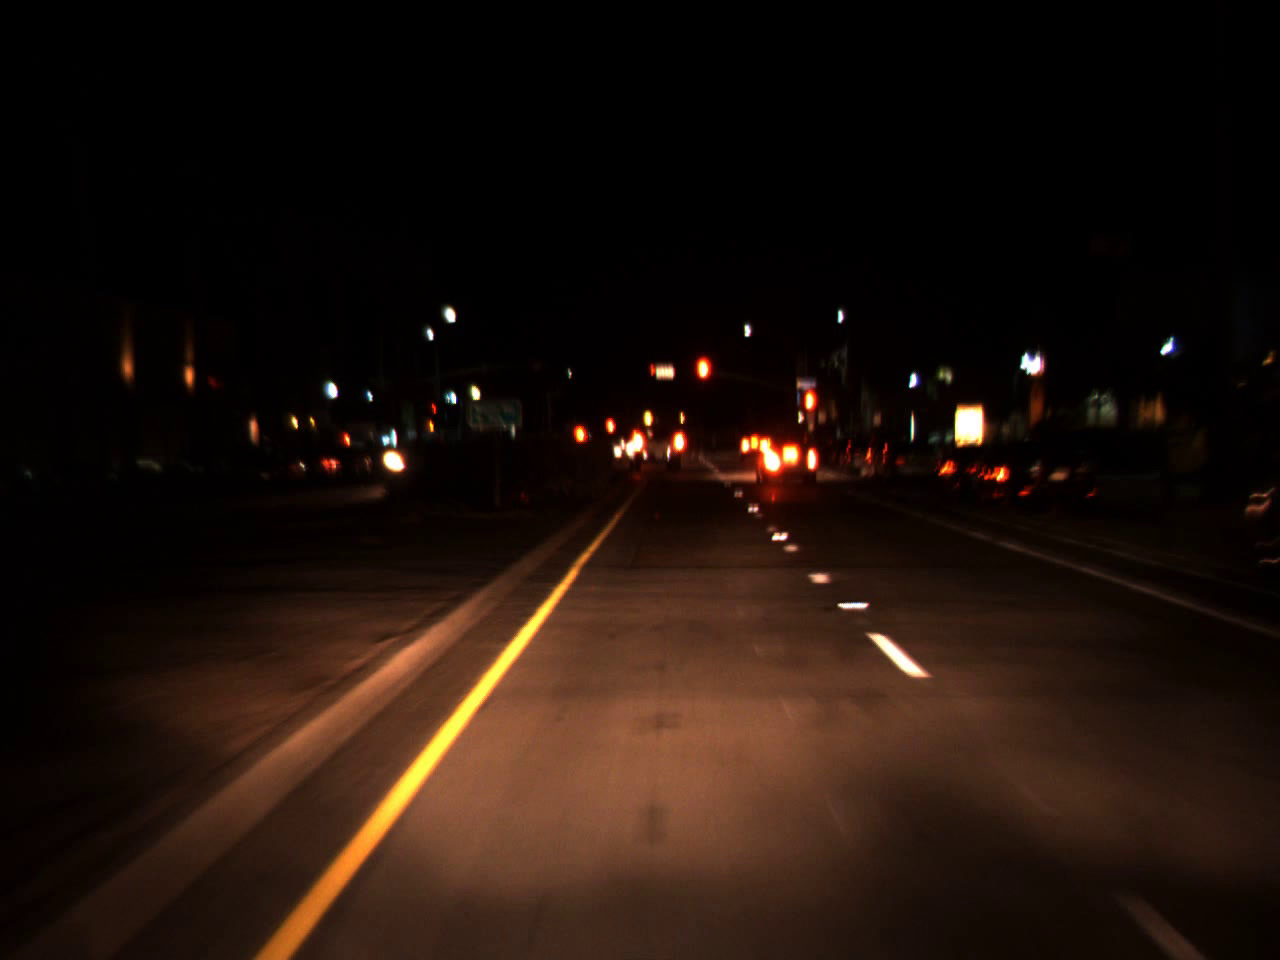stop: (693, 352, 714, 408), (649, 364, 658, 382), (431, 401, 437, 425)
